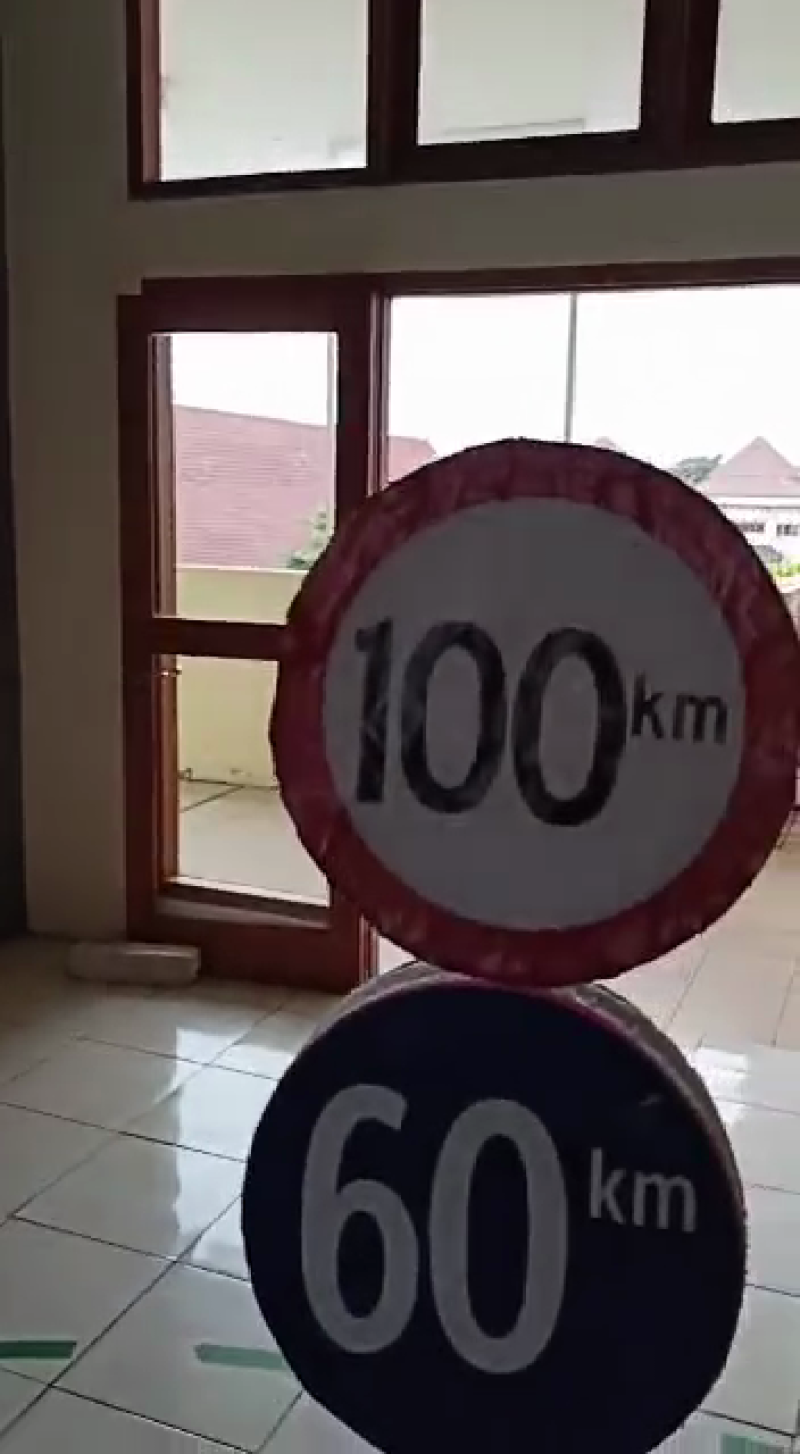batas maksimal 100kmperjam minimal 60kmperjam: (231, 432, 800, 1454)
